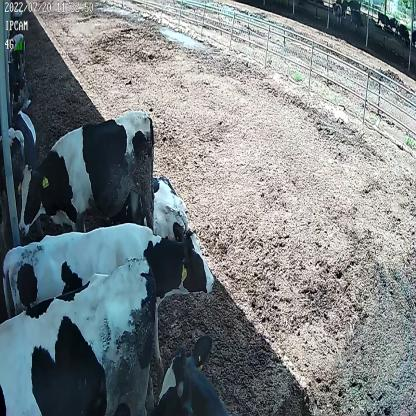cow: (1, 216, 217, 374), (16, 107, 159, 236)
